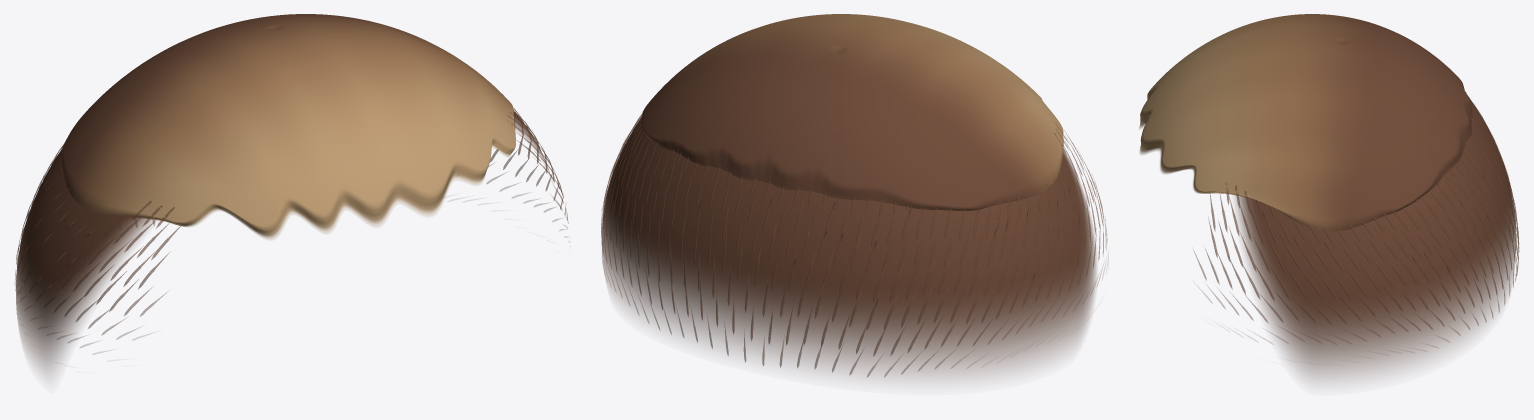
File: Masculine-sidepart-cap259-hair-ombre.glb
3 renders of one model, left to right at view 1: azimuth 30°, elevation 25°; view 2: azimuth 150°, elevation 25°; view 3: azimuth 270°, elevation 25°, orthographic. The views are drawn at different scales.
Parts seen in each view (by area): view 1: 226 hair / Hair259 / textured forward Crop, 226 hair / Hair258 / smooth side fade, 226 hair / Hair259 / directional fade marks214; view 2: 226 hair / Hair258 / smooth side fade, 226 hair / Hair259 / textured forward Crop, 226 hair / Hair259 / directional fade marks214; view 3: 226 hair / Hair259 / textured forward Crop, 226 hair / Hair258 / smooth side fade, 226 hair / Hair259 / directional fade marks214.
Part boxes in pixels (bbox=[...]): 226 hair / Hair259 / textured forward Crop: bbox=[61, 14, 515, 239]; 226 hair / Hair258 / smooth side fade: bbox=[16, 110, 551, 375]; 226 hair / Hair259 / directional fade marks214: bbox=[15, 107, 568, 354]; 226 hair / Hair258 / smooth side fade: bbox=[602, 117, 1096, 379]; 226 hair / Hair259 / textured forward Crop: bbox=[641, 14, 1063, 210]; 226 hair / Hair259 / directional fade marks214: bbox=[601, 114, 1108, 377]; 226 hair / Hair259 / textured forward Crop: bbox=[1139, 14, 1472, 231]; 226 hair / Hair258 / smooth side fade: bbox=[1234, 99, 1516, 381]; 226 hair / Hair259 / directional fade marks214: bbox=[1193, 96, 1519, 351].
Size of the model in its own units: 0.9743 by 0.584 by 0.7545.
